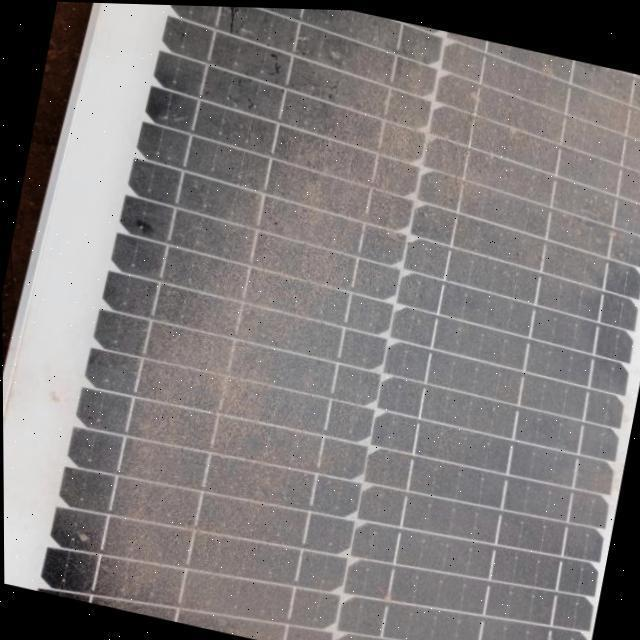Surface Contaminant: (23, 3, 640, 640)
